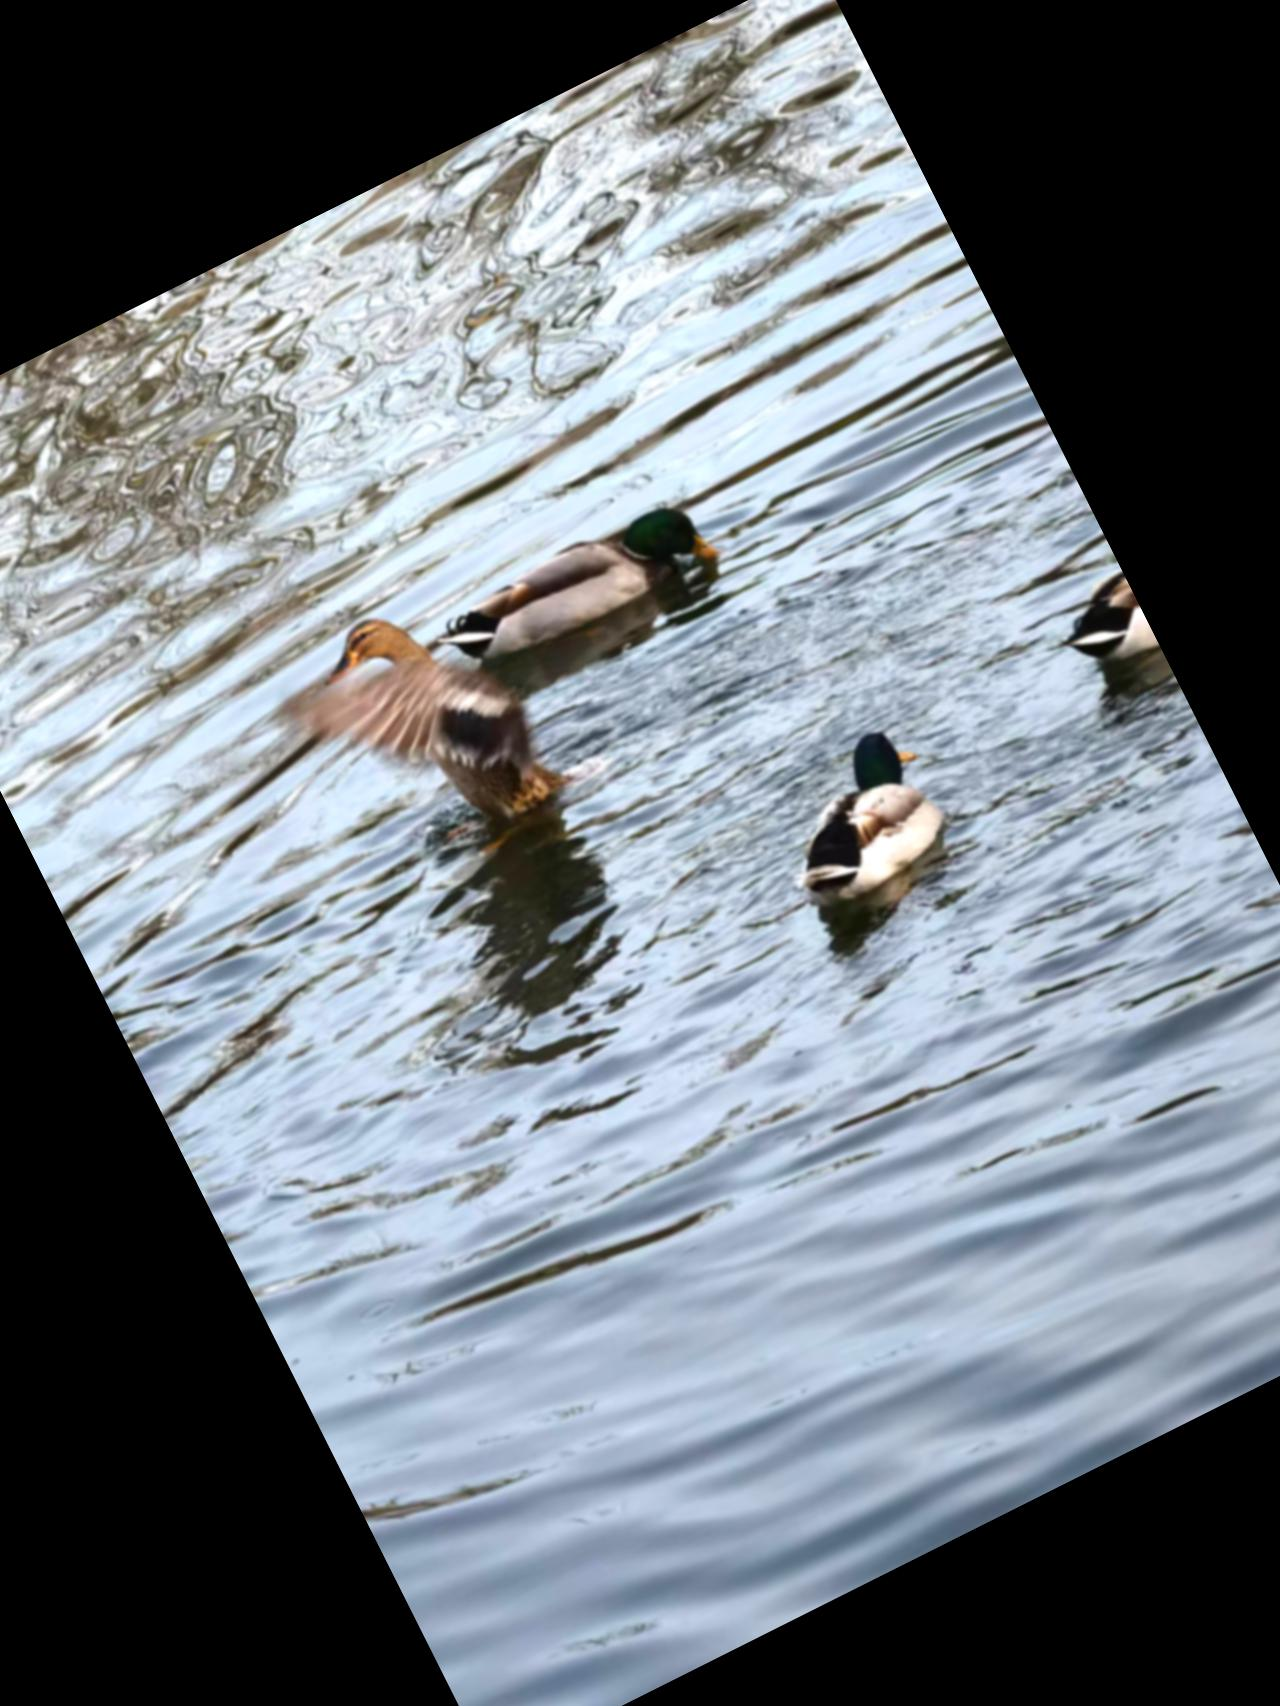duck: (249, 558, 600, 933), (411, 448, 752, 692), (737, 704, 983, 938), (1025, 571, 1152, 683)
